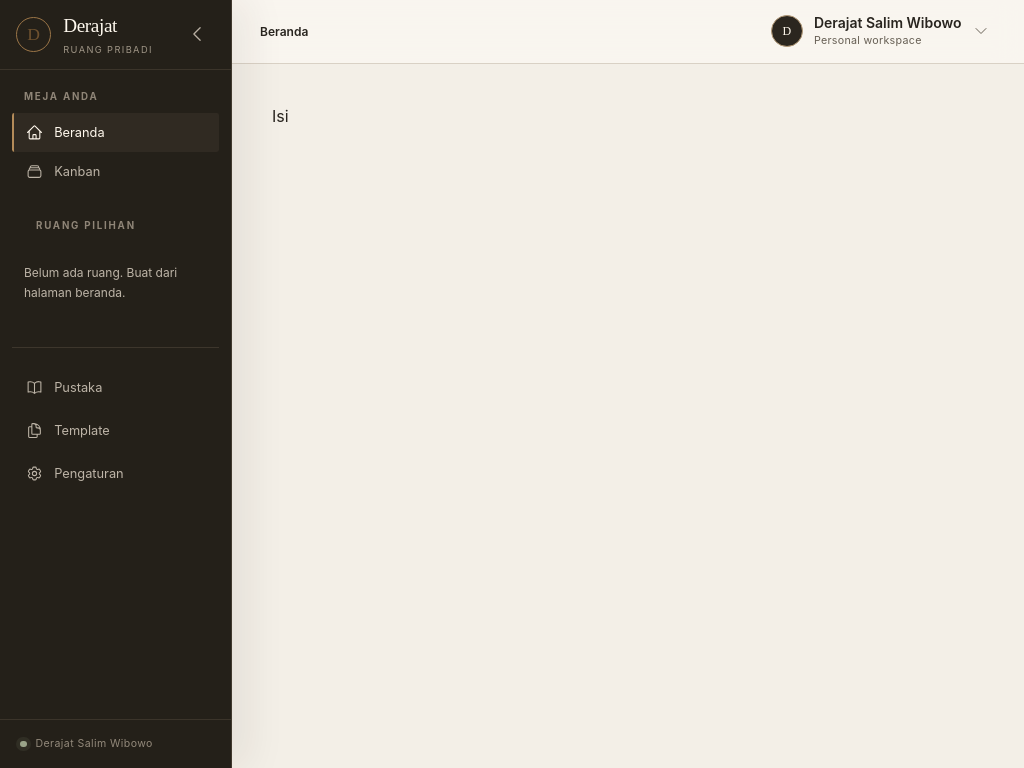
Test: AppShell accessibility › keeps the user on the protected page when logout fails
Click the button with aria-label "Menu akun".
click(880, 32)  # box [764,8,996,55]
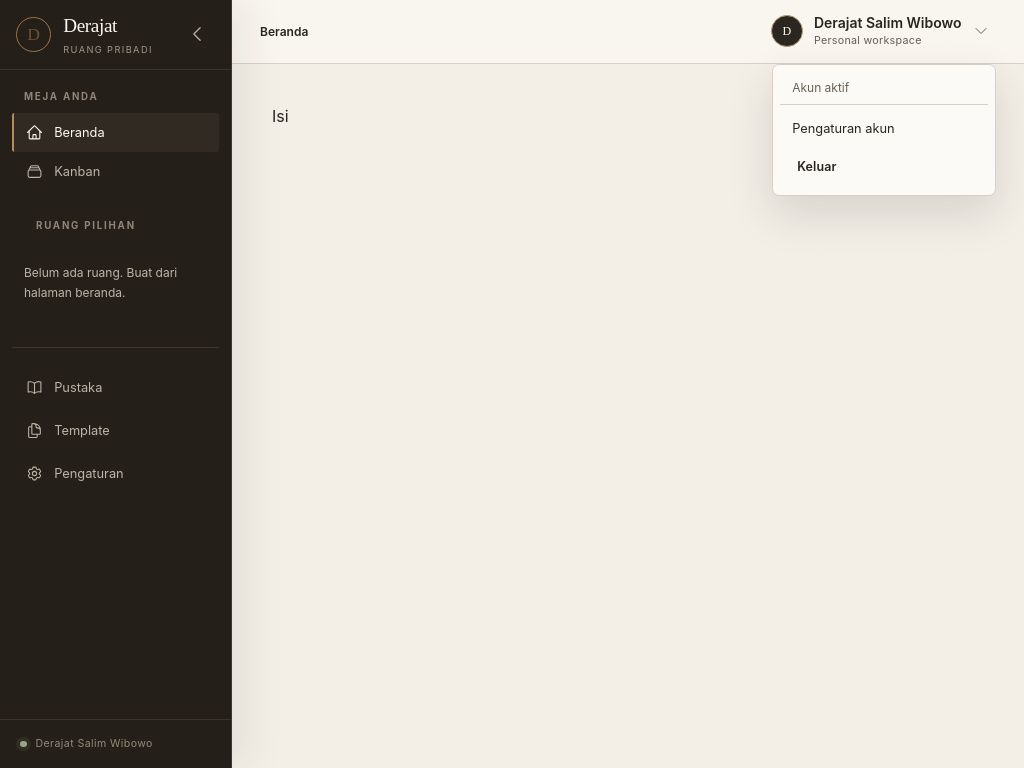
Click the button "Keluar".
click(884, 168)  # box [780,148,988,188]
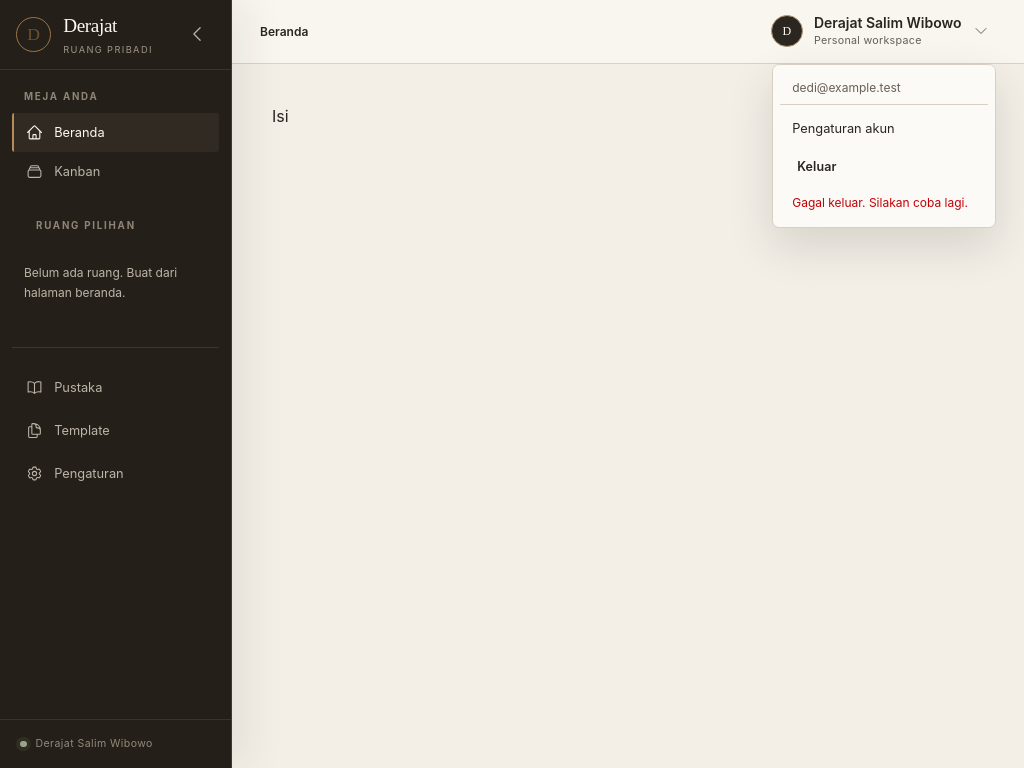
Check: the message reads "Gagal keluar. Silakan coba lagi.", box [792,196,968,210]
